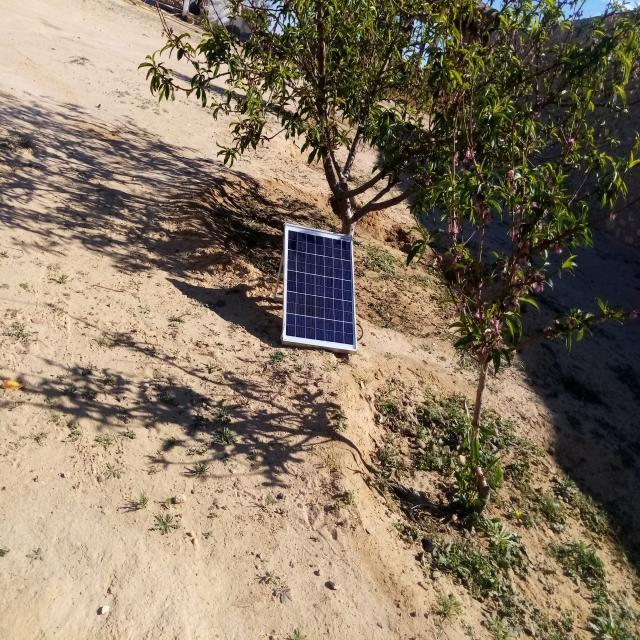no faulty: (283, 224, 356, 350)
